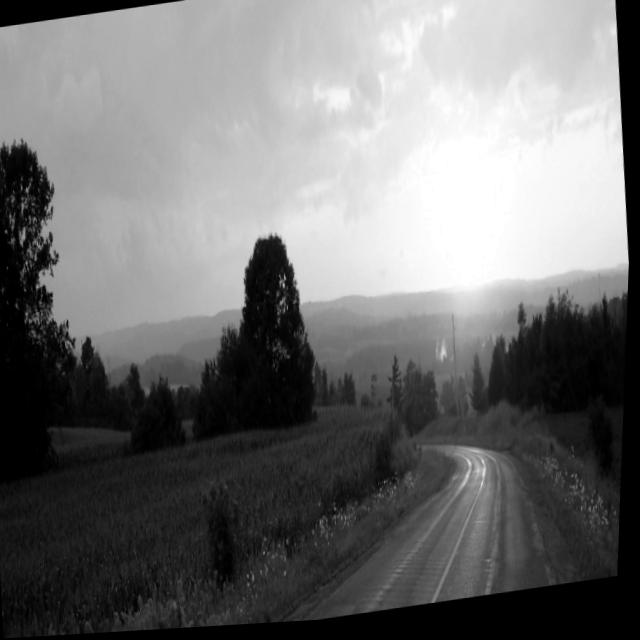cleat: (186, 194, 629, 629)
